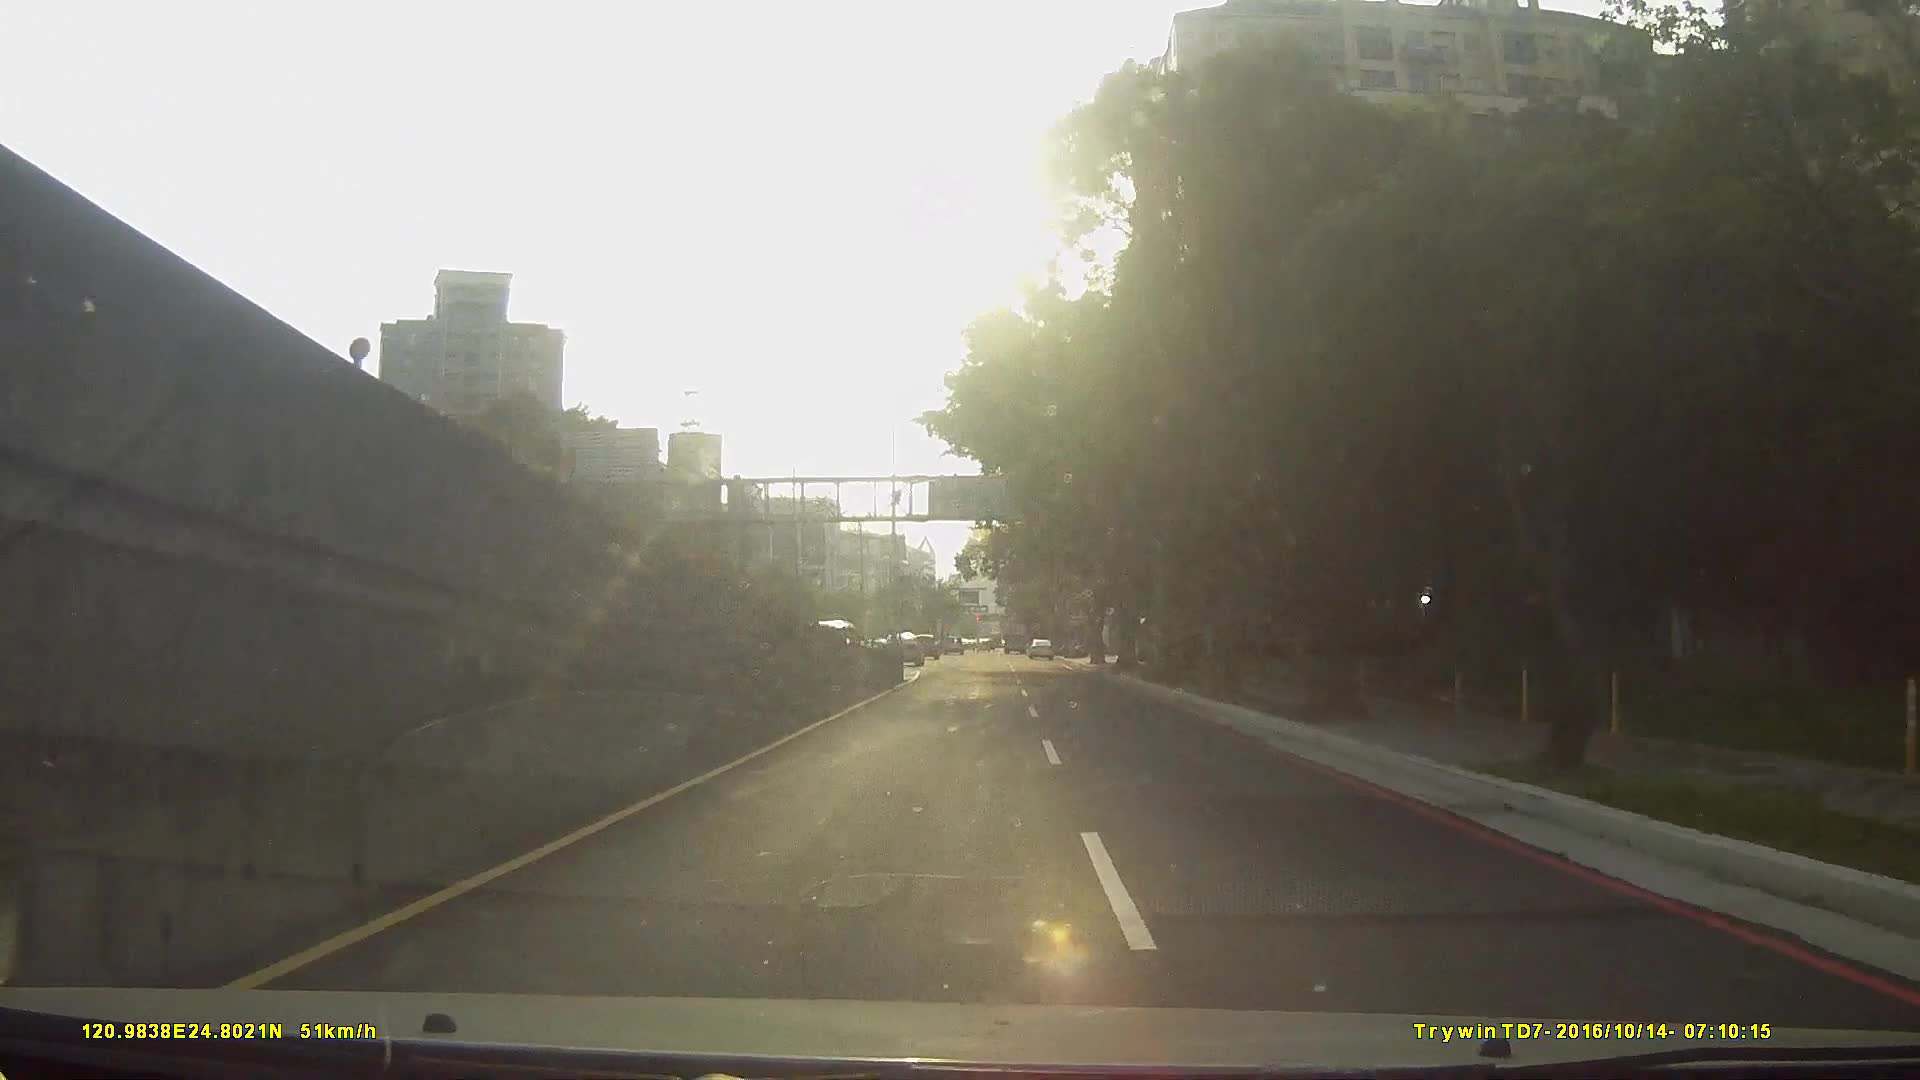vehicle: (880, 630, 924, 666), (1004, 617, 1029, 653), (1025, 637, 1054, 659)
